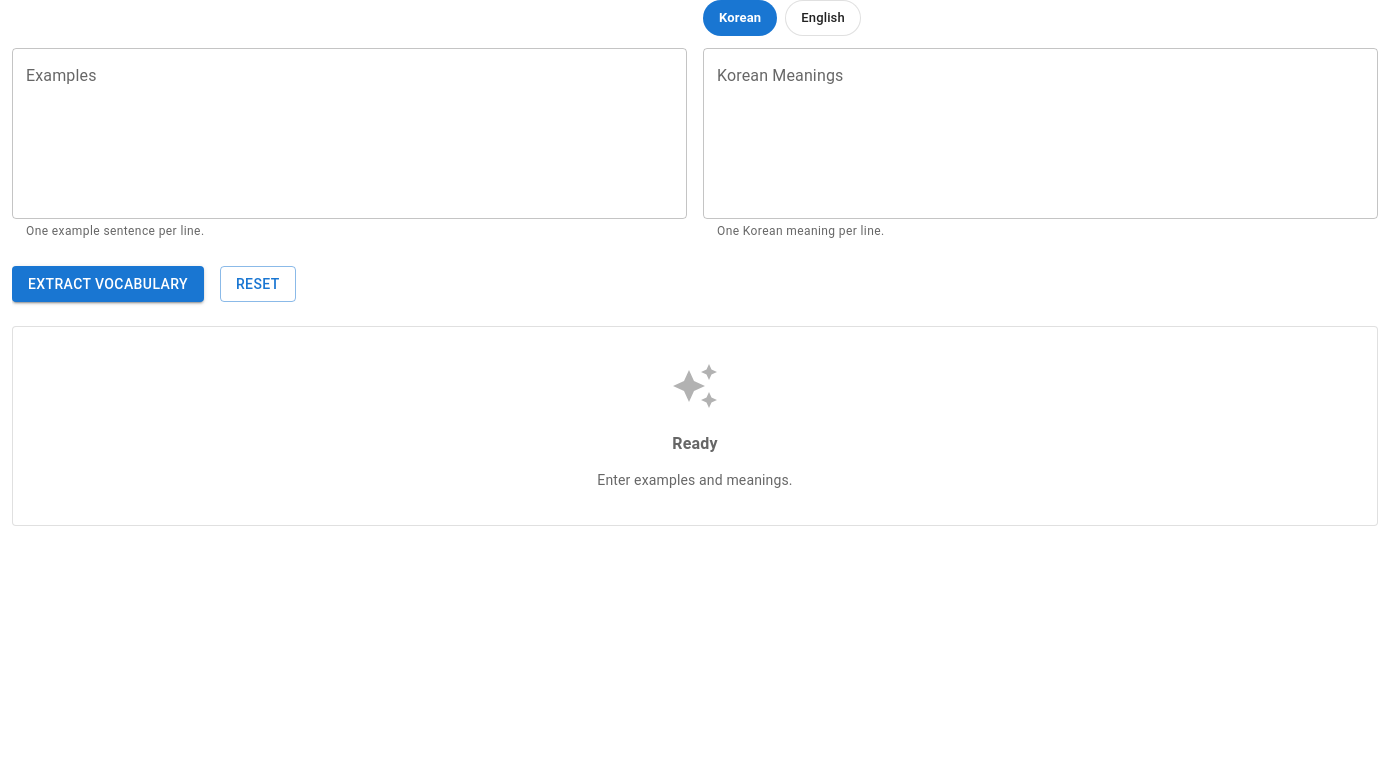
Test: VocabExtractForm › switches the visible meaning field to English
Click the radio button labelled "English". click: (823, 18)
box: [785,0,861,36]
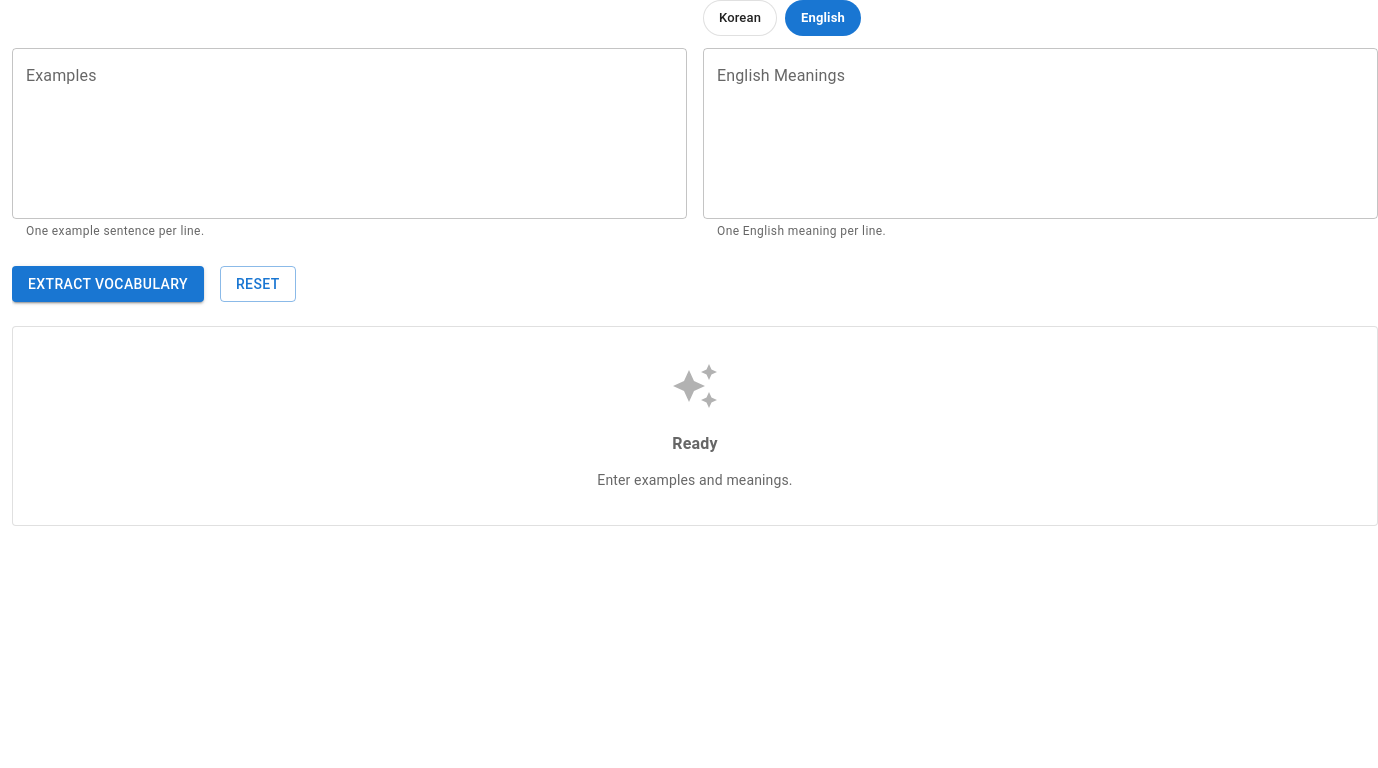
Result: the text "Korean Meanings" is gone
Result: the text "English Meanings" is shown at [717,64,845,87]
